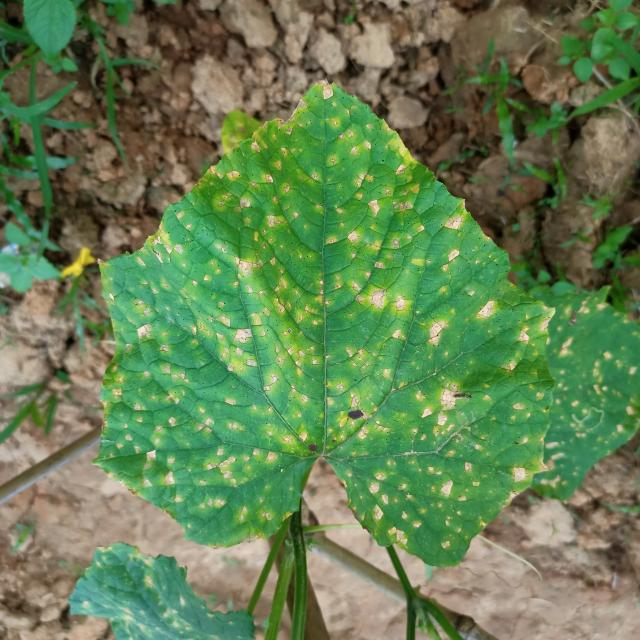disease_cucumber: (104, 113, 540, 545), (532, 293, 640, 499)
